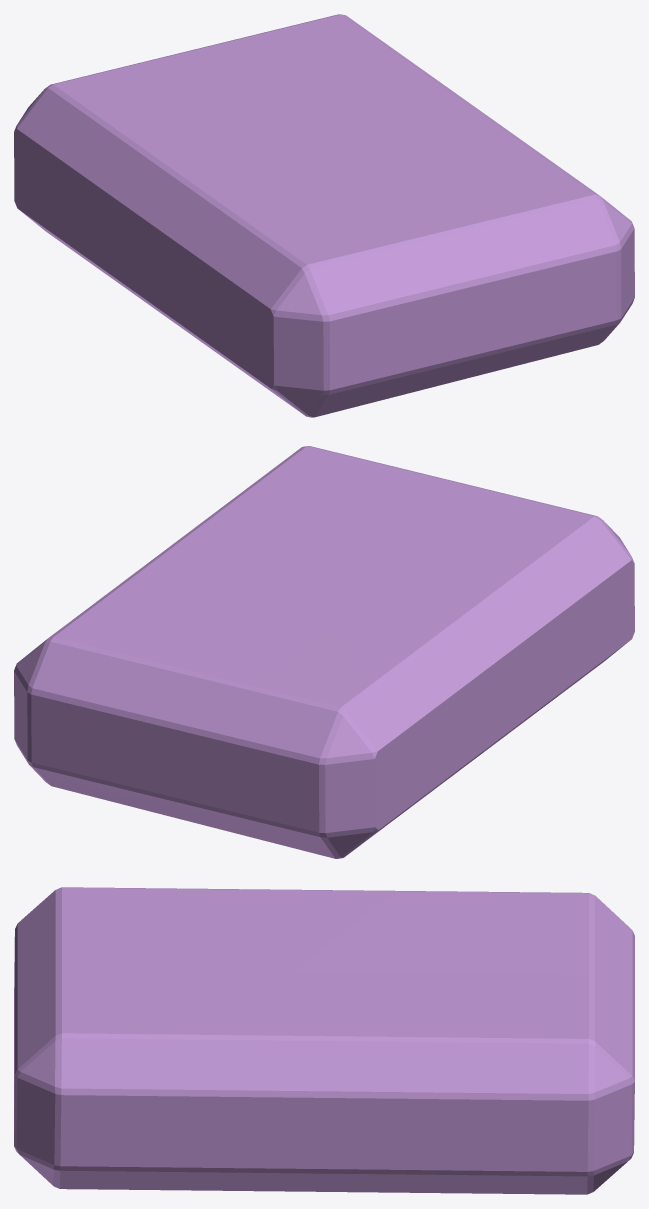
Rendered from soap.fbx.
The picture shows the model from 3 angles, top to bottom: view 1: azimuth 30°, elevation 25°; view 2: azimuth 150°, elevation 25°; view 3: azimuth 270°, elevation 25°; orthographic projection. The views are drawn at different scales.
Parts seen in each view (by area): view 1: loftedSurface1086__M_Cnsw_58_FloorSet_Obj_Soap; view 2: loftedSurface1086__M_Cnsw_58_FloorSet_Obj_Soap; view 3: loftedSurface1086__M_Cnsw_58_FloorSet_Obj_Soap.
Part boxes in pixels (<box>): loftedSurface1086__M_Cnsw_58_FloorSet_Obj_Soap: <box>14,14,634,417</box>; loftedSurface1086__M_Cnsw_58_FloorSet_Obj_Soap: <box>14,446,634,858</box>; loftedSurface1086__M_Cnsw_58_FloorSet_Obj_Soap: <box>14,887,634,1194</box>.
Bounding box in the file's own units: 11068 × 4520 × 15786.
